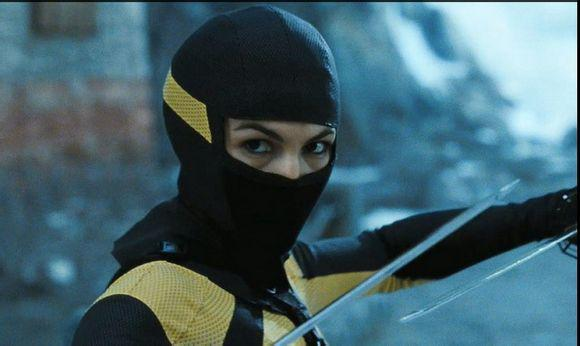OK: (213, 112, 335, 234)
